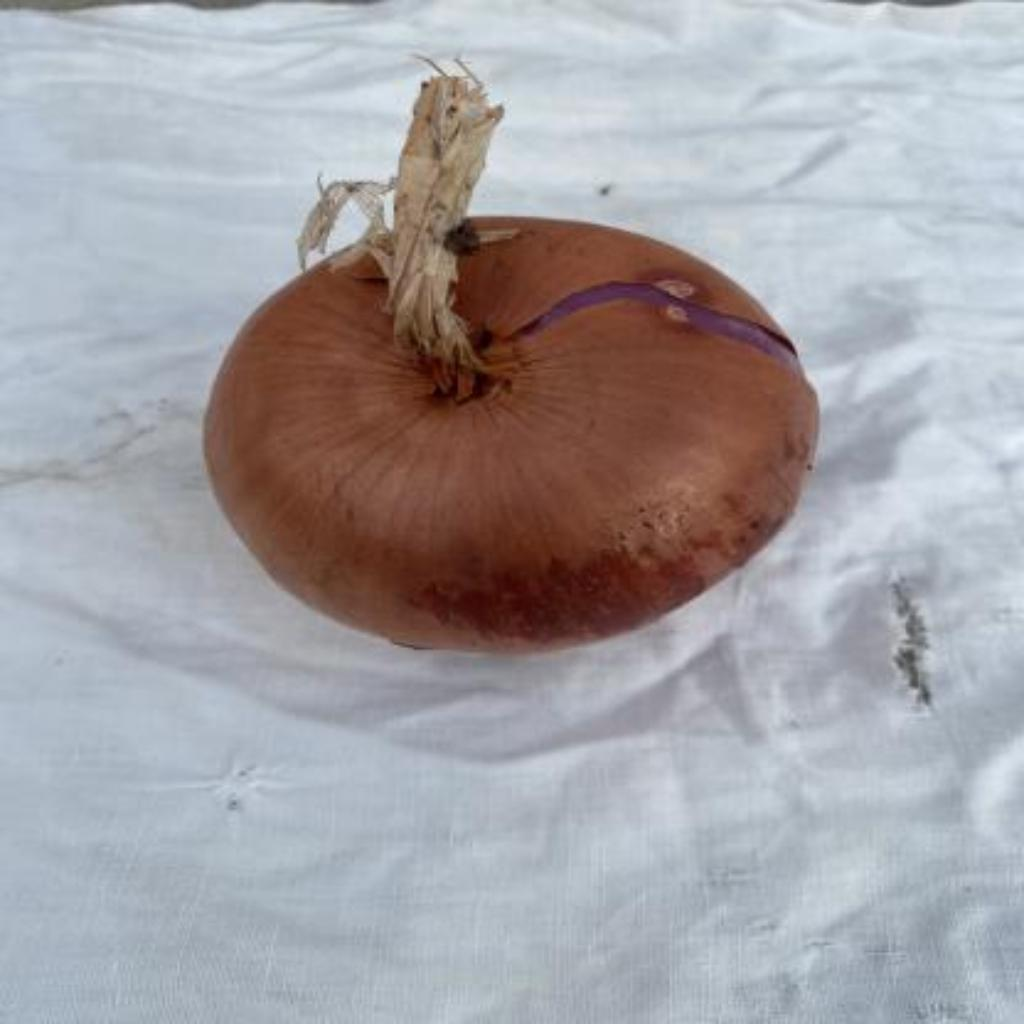Onion: (204, 64, 820, 651)
